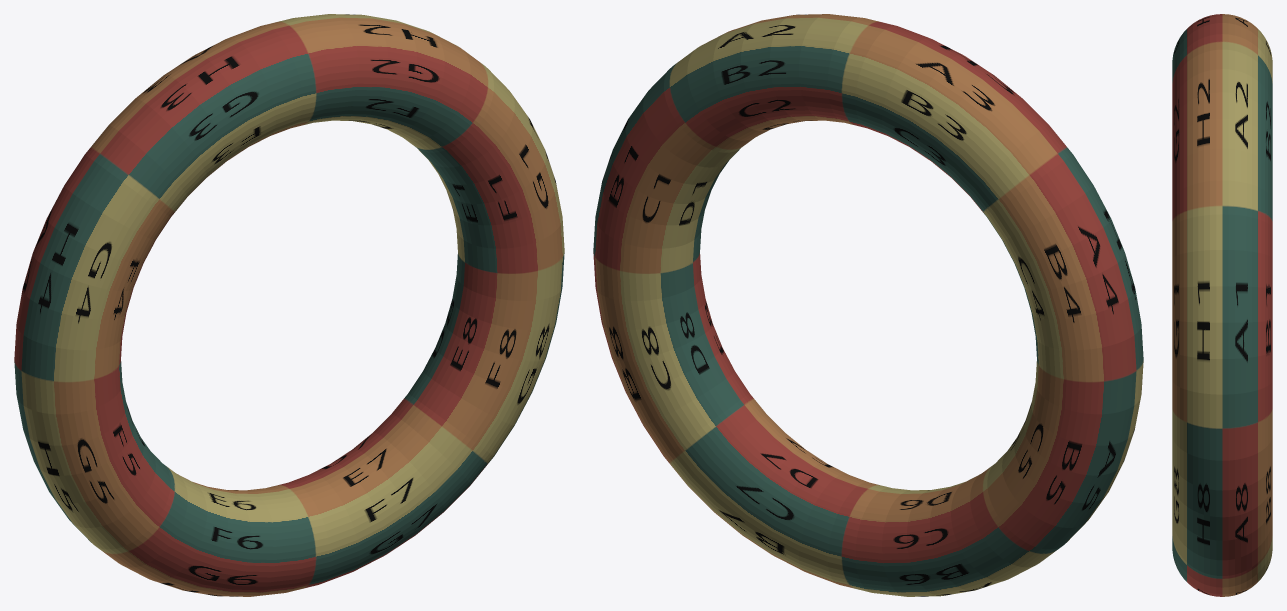
Rendered from texture_torus_R9_r5.glb.
3 renders of one model, left to right at view 1: azimuth 30°, elevation 25°; view 2: azimuth 150°, elevation 25°; view 3: azimuth 270°, elevation 25°, orthographic. The views are drawn at different scales.
Parts seen in each view (by area): view 1: world; view 2: world; view 3: world.
Boxes of the visible parts, x1,y1,x2,y2 form: world: (14,14,564,596); world: (593,14,1143,596); world: (1172,14,1272,596).
Bounding box in the file's own units: 19.33 × 19.3 × 3.33.
1 material, 1 textured.
